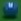blue: (0, 0, 21, 21)
